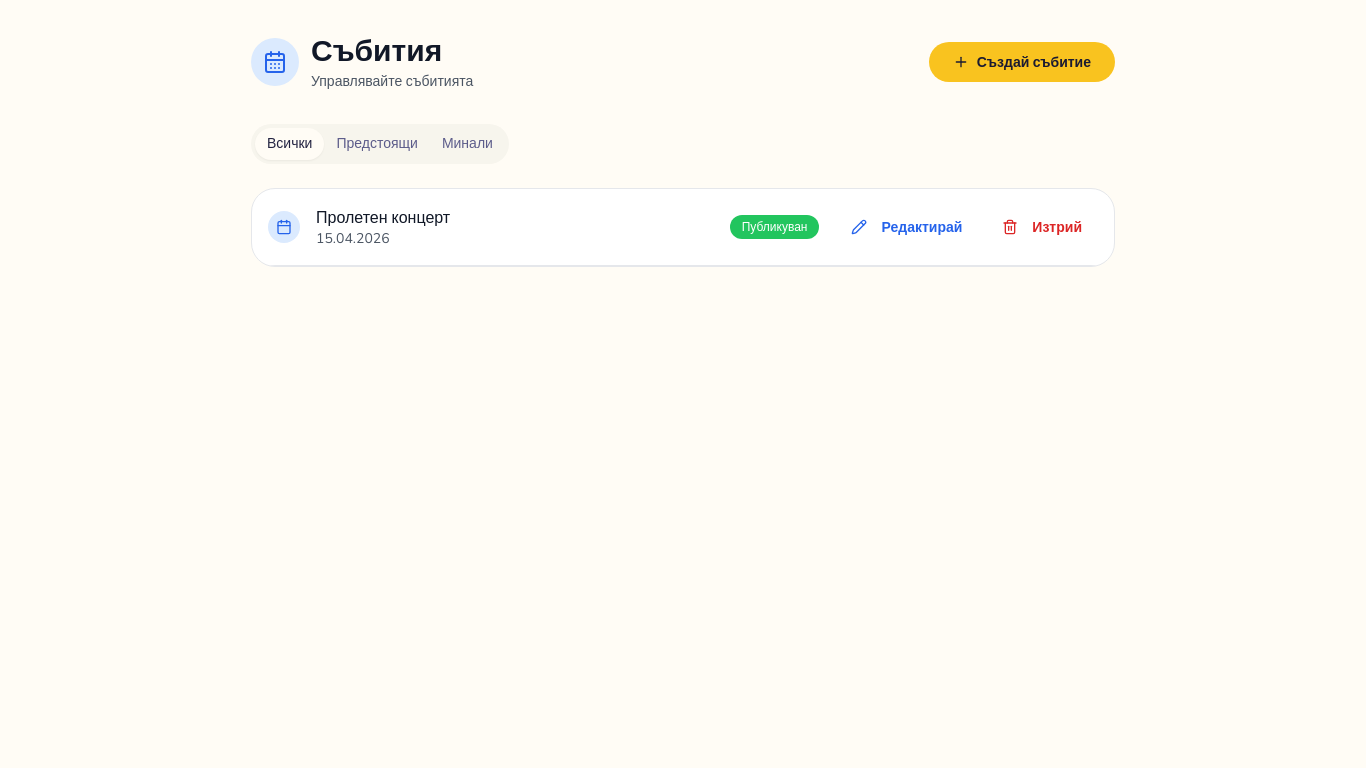
Test case: EventsList › opens delete dialog on delete button click
Click the button with aria-label "Изтрий: Пролетен концерт": (1042, 227) x1=986 y1=209 x2=1098 y2=245
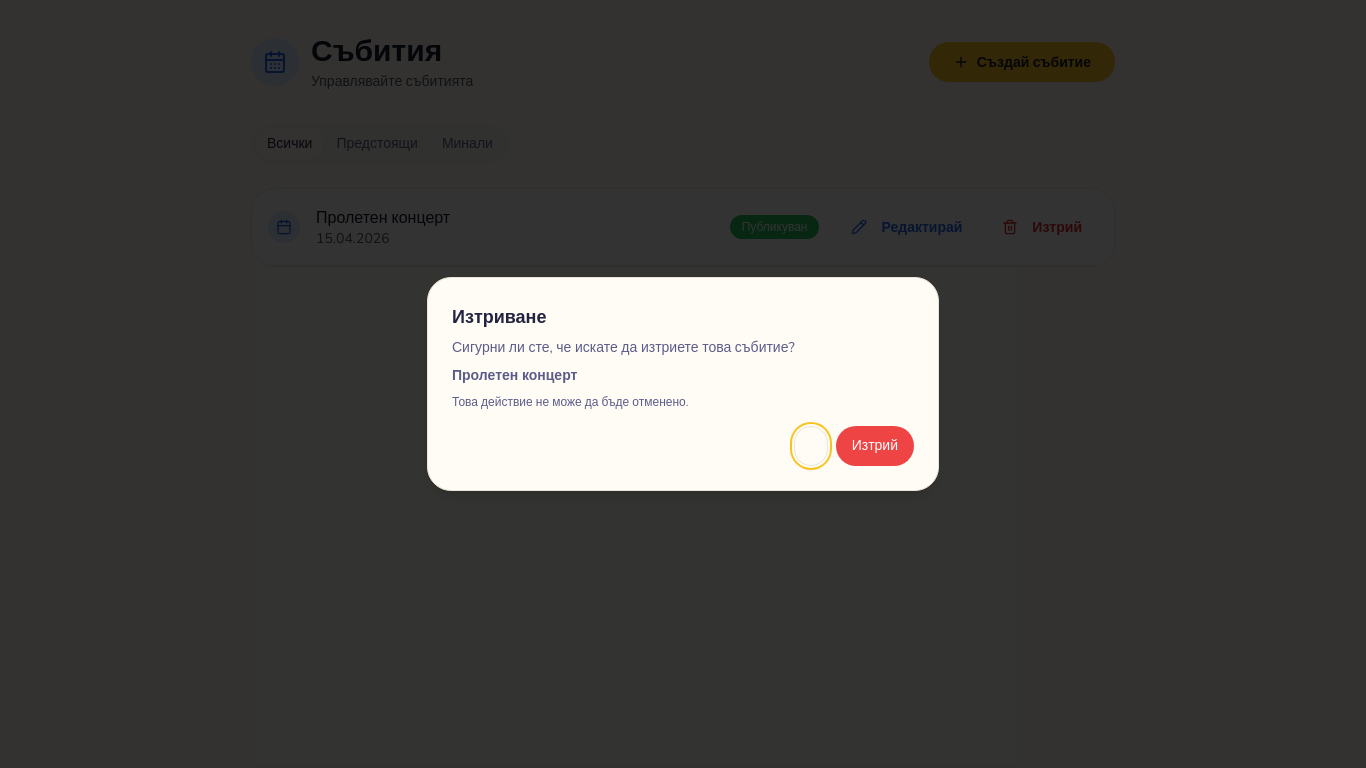
Now the text "Сигурни ли сте" is shown, box x1=452 y1=338 x2=795 y2=357
